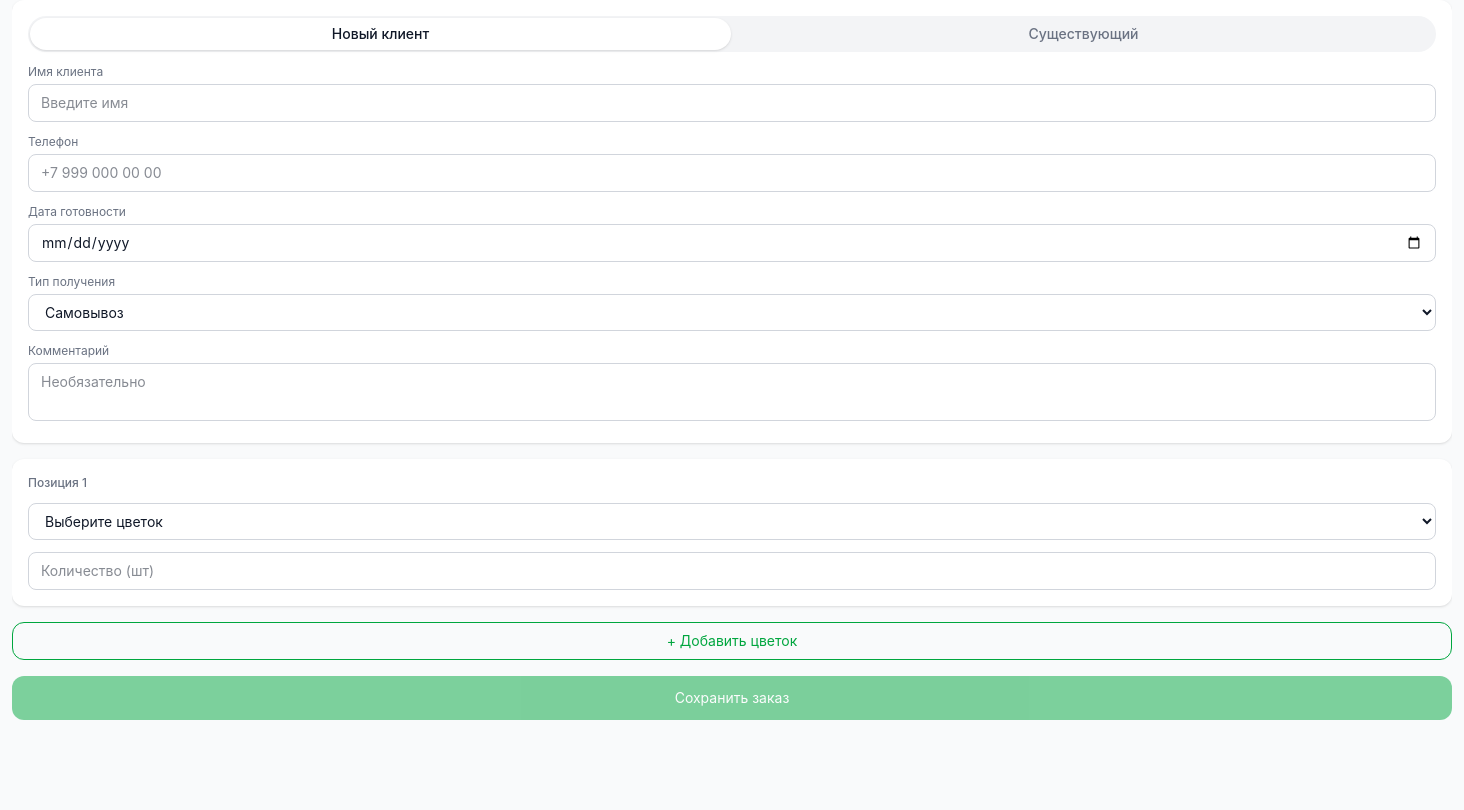
Test: NewOrderPage › показывает поле адреса при выборе доставки
Select "Доставка" in the dropdown below "Тип получения" at (732, 312), box [28,294,1436,331]
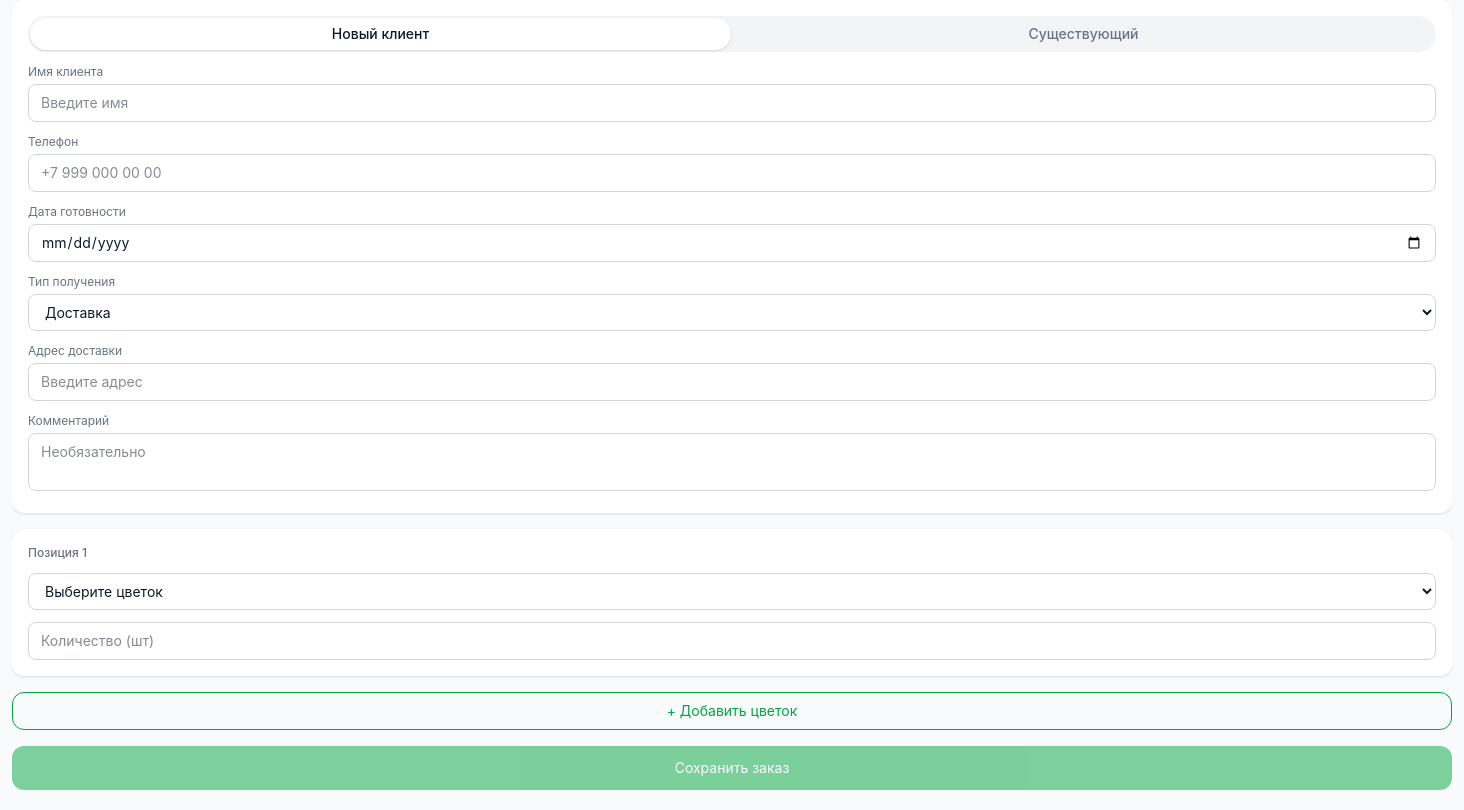
Result: the field with placeholder "Введите адрес" is shown at [28,363,1436,401]
